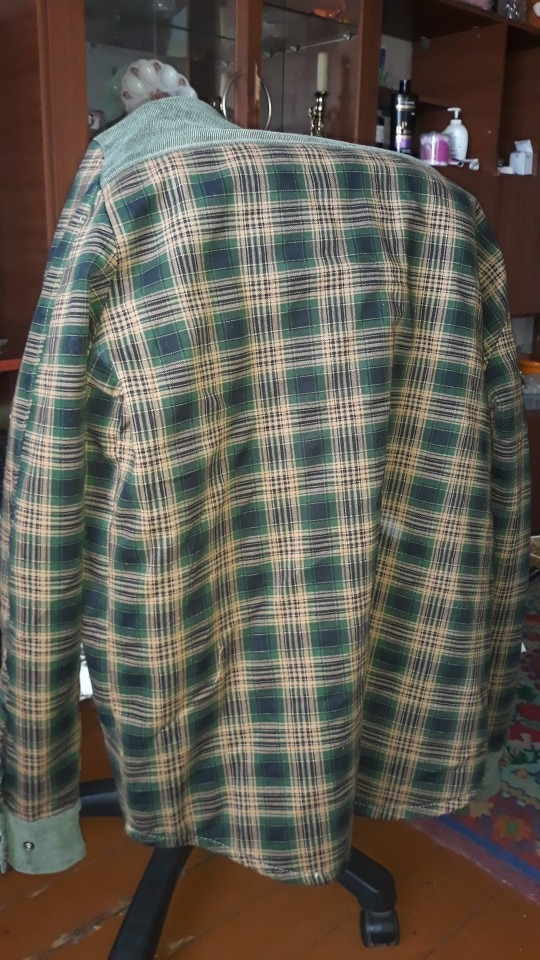shirts: (41, 104, 521, 872)
